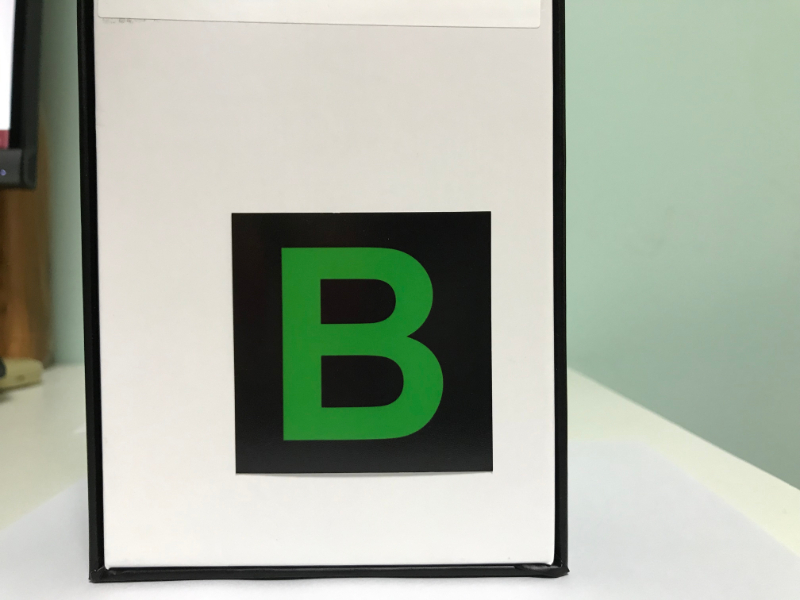B-12: (236, 214, 492, 472)
